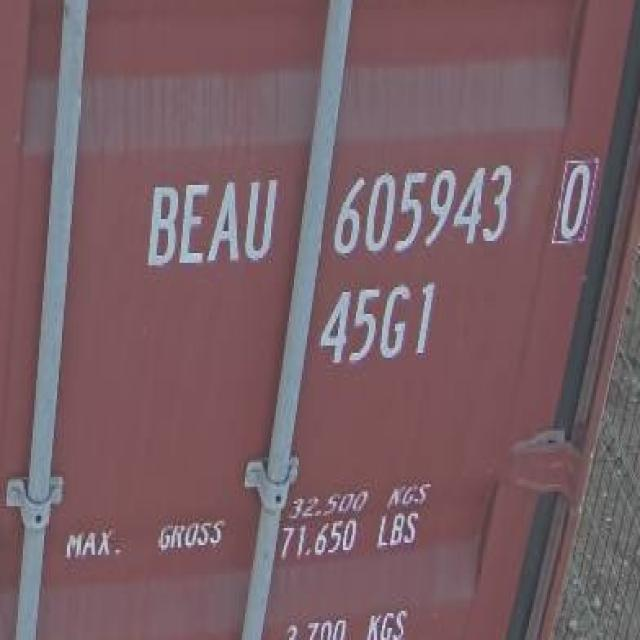dv: (550, 152, 600, 255)
owner: (145, 167, 279, 278)
serial: (329, 156, 520, 264)
size: (313, 276, 442, 372)
